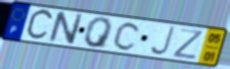C: (24, 8, 56, 42), (112, 21, 142, 52)
J: (149, 26, 177, 57)
N: (47, 10, 86, 46)
Q: (83, 17, 114, 50)
Z: (171, 28, 205, 61)
